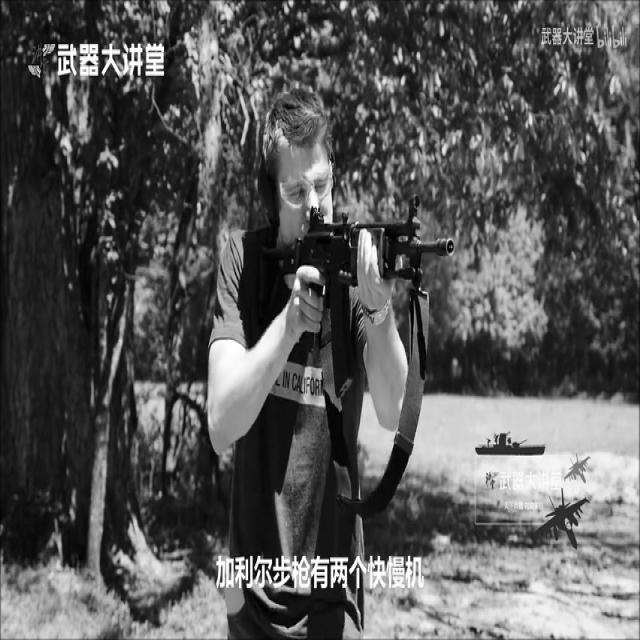Sub-machine-gun: (290, 210, 478, 395)
